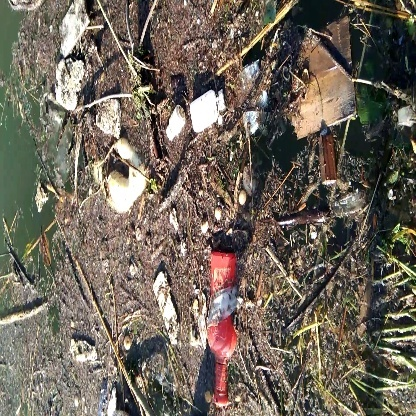bottle: (201, 245, 252, 414)
